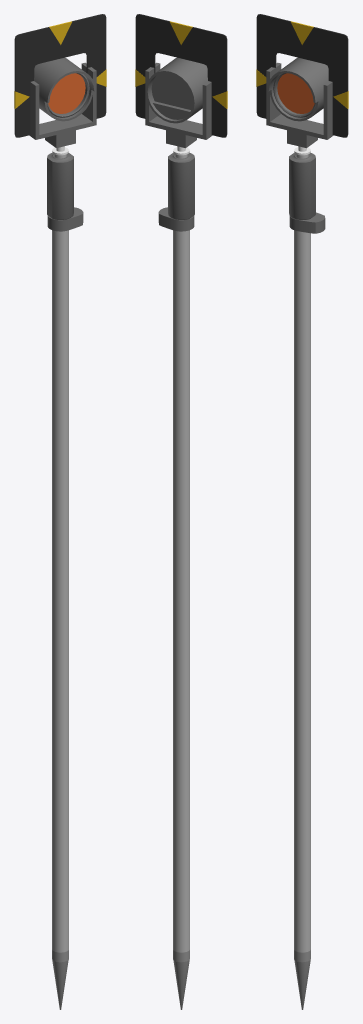
Rendered from prism_LOD0.fbx.
3 views of the same model, side by side, from view 1: azimuth 30°, elevation 25°; view 2: azimuth 150°, elevation 25°; view 3: azimuth 330°, elevation 25° (orthographic).
Visible parts, largest first — view 1: stake, headdress, y-mount, handle, prism_casing, prism, Cylinder, leveler; view 2: stake, headdress, prism_casing, y-mount, handle, Cylinder, leveler; view 3: stake, headdress, y-mount, handle, prism_casing, prism, Cylinder, leveler.
Boxes of the visible parts, x1=… form: stake: x1=52, y1=230, x2=68, y2=1009; headdress: x1=14, y1=14, x2=106, y2=137; y-mount: x1=29, y1=62, x2=96, y2=148; handle: x1=47, y1=152, x2=73, y2=219; prism_casing: x1=34, y1=57, x2=96, y2=121; prism: x1=47, y1=73, x2=89, y2=117; Cylinder: x1=14, y1=21, x2=106, y2=108; leveler: x1=47, y1=207, x2=83, y2=231; stake: x1=173, y1=230, x2=189, y2=1009; headdress: x1=135, y1=14, x2=227, y2=137; prism_casing: x1=145, y1=57, x2=207, y2=123; y-mount: x1=145, y1=62, x2=212, y2=148; handle: x1=168, y1=152, x2=194, y2=219; Cylinder: x1=135, y1=21, x2=227, y2=108; leveler: x1=158, y1=207, x2=194, y2=231; stake: x1=294, y1=230, x2=310, y2=1009; headdress: x1=256, y1=14, x2=348, y2=137; y-mount: x1=266, y1=62, x2=333, y2=148; handle: x1=289, y1=152, x2=315, y2=219; prism_casing: x1=266, y1=57, x2=328, y2=121; prism: x1=273, y1=73, x2=315, y2=117; Cylinder: x1=256, y1=21, x2=348, y2=108; leveler: x1=289, y1=212, x2=325, y2=233.
Size of the model in its own units: 152 by 1572 by 65.59.
